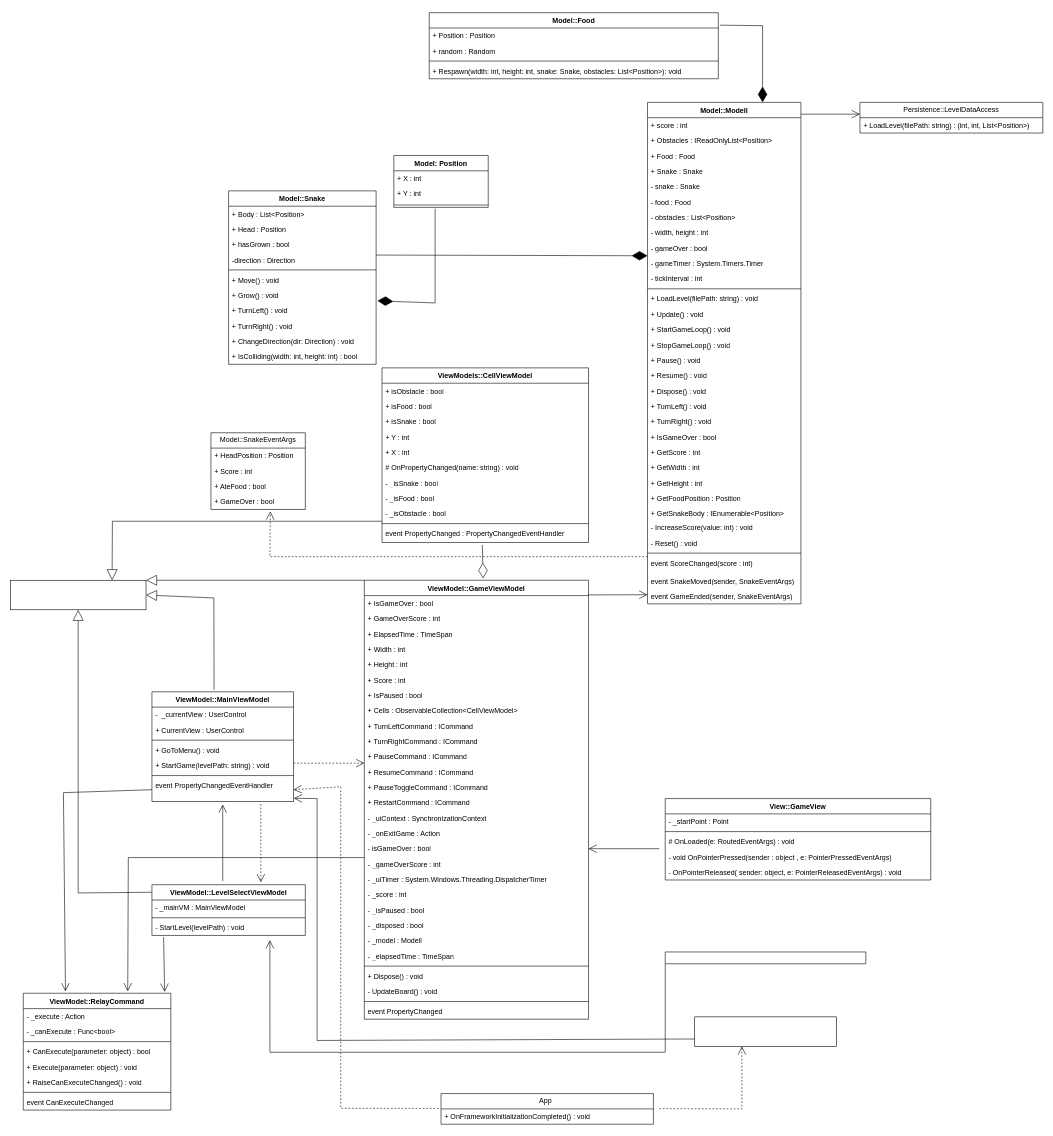
Some shapes in this 1053 by 1136 pixel diagram are drawn without their labels. The shapes that lost their labels are listed below. From the top down, each one's centre as x and y in pixels, then its label:
[78,595]: ViewModel::ViewModelBase
[765,957]: View::LevelSelectView
[765,1031]: View::MainView
